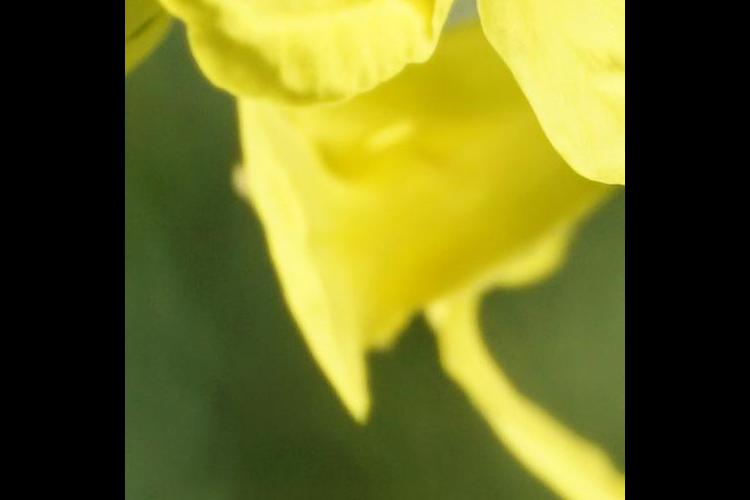yellow: (144, 1, 626, 183)
